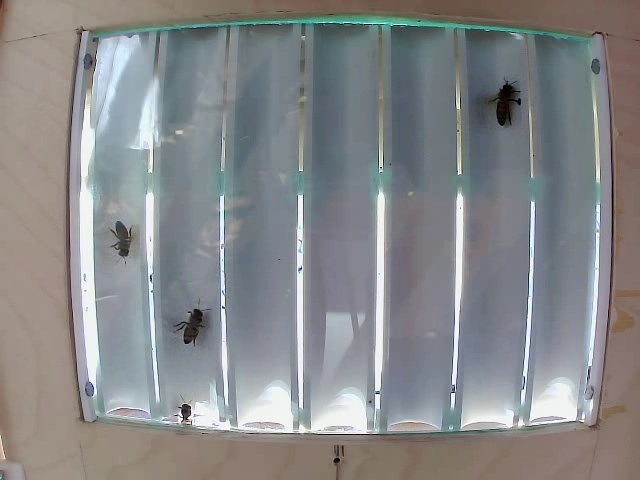bee: (182, 310, 218, 366), (107, 222, 152, 265), (488, 68, 509, 134)
